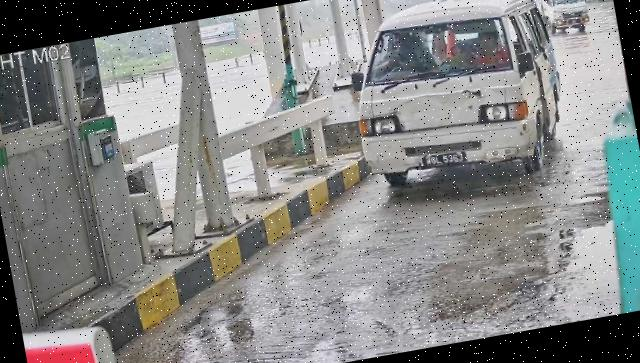License_Plate: (420, 147, 470, 174)
van: (341, 1, 575, 200)
